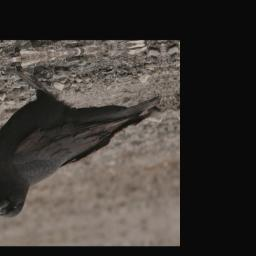Crow: (0, 48, 172, 222)
